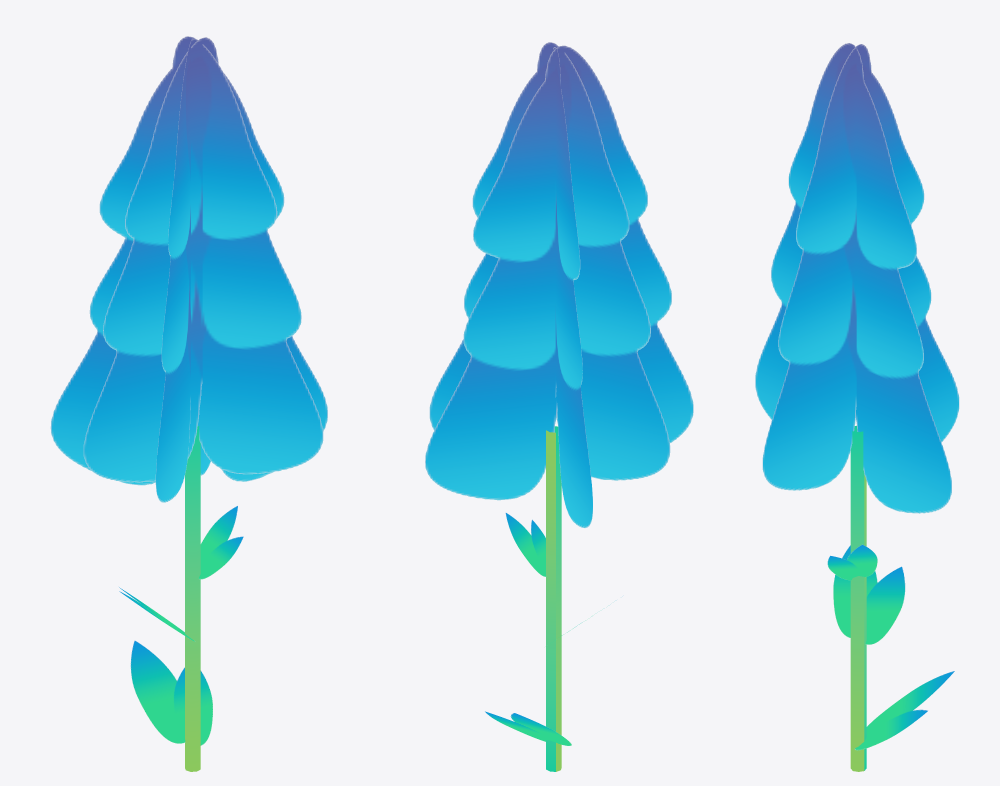
Rendered from Flowers_n02_12.fbx.
3 renders of one model, left to right at view 1: azimuth 30°, elevation 25°; view 2: azimuth 150°, elevation 25°; view 3: azimuth 270°, elevation 25°, orthographic.
Parts seen in each view (by area): view 1: polySurface333; view 2: polySurface333; view 3: polySurface333.
Boxes of the visible parts, left/top/right/bottom form: polySurface333: left=50, top=36, right=327, bottom=771; polySurface333: left=425, top=42, right=693, bottom=771; polySurface333: left=755, top=43, right=959, bottom=771.
Size of the model in its own units: 17.64 by 42.59 by 12.86.
Materials: 1 (1 with a texture image).
